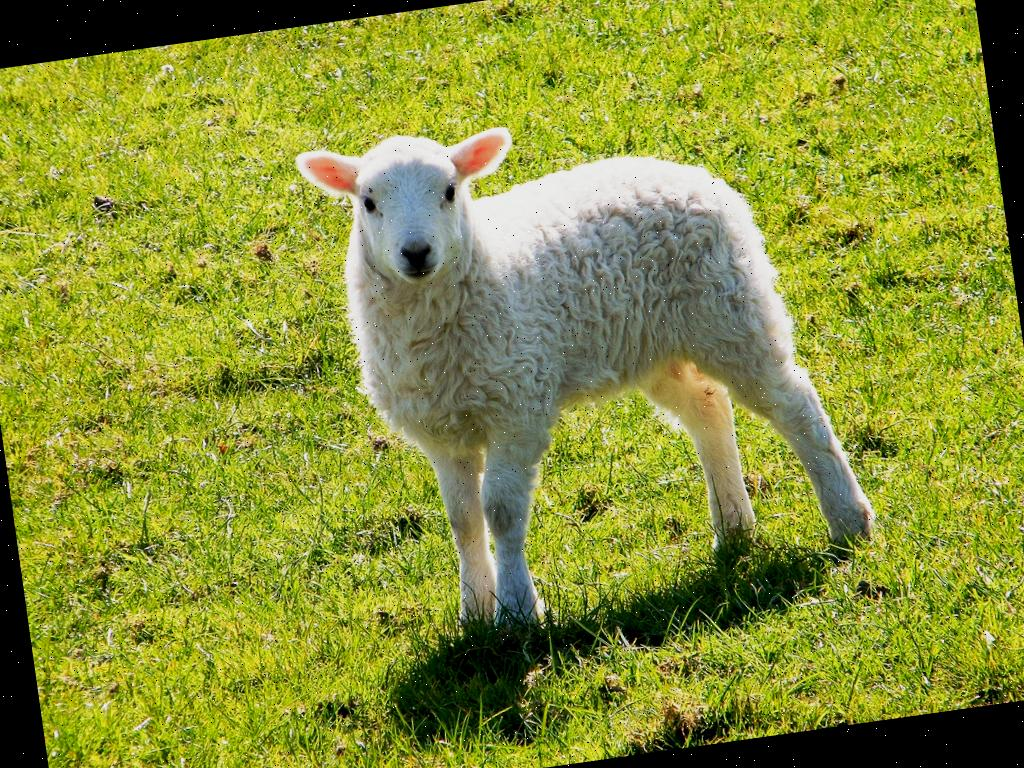Sheep: (290, 75, 886, 652)
